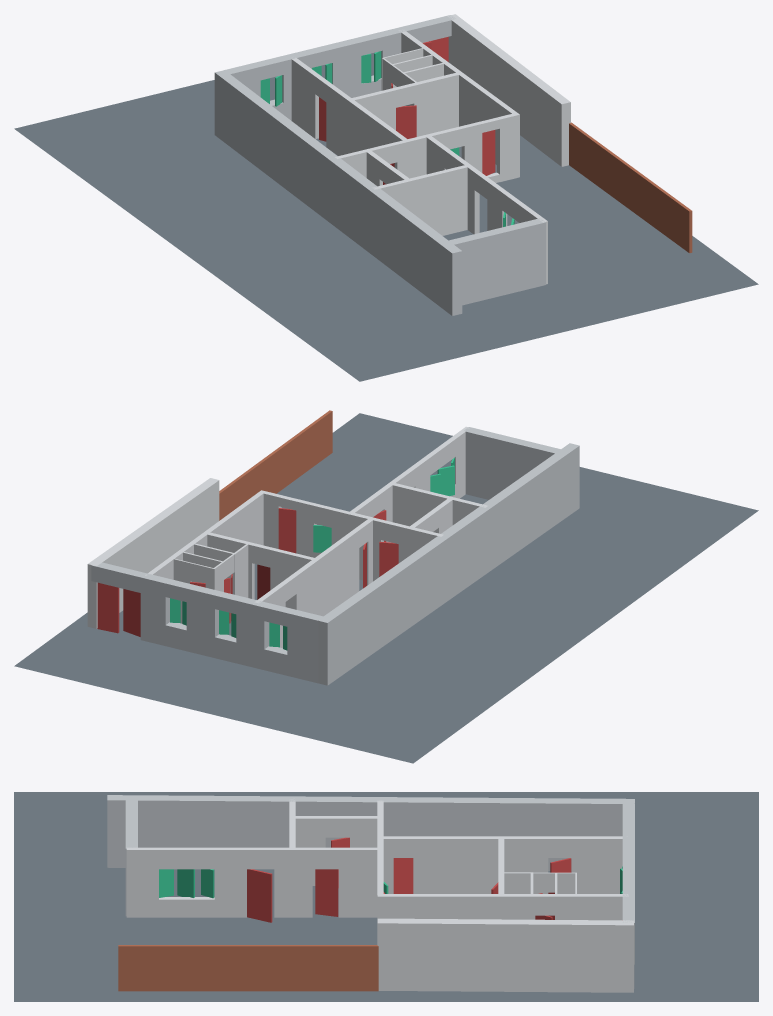
The model's file is foldszint_v2.glb.
The picture shows the model from 3 angles, top to bottom: view 1: azimuth 30°, elevation 25°; view 2: azimuth 150°, elevation 25°; view 3: azimuth 270°, elevation 25°; orthographic projection. The views are drawn at different scales.
Parts seen in each view (by area): view 1: Ground floor slab, Wall_path262_0, Wall_path378_3, Wall_path262_1, Brick fence_path234_0, Wall_path270_0, Wall_path226_0, Wall_path238_0, Wall_path232_0, Wall_path224_0, Wall_path218_0_385, Wall_path260_0 (+10 smaller); view 2: Ground floor slab, Wall_path262_0, Wall_path378_3, Brick fence_path234_0, Wall_path262_1, Wall_path226_0, Wall_path218_0_92.423203, Wall_path218_0_245, Wall_path218_0_385, Wall_path270_0, Wall_path218_0_525, Wall_path232_0 (+14 smaller); view 3: Ground floor slab, Wall_path262_0, Wall_path378_3, Brick fence_path234_0, Wall_path226_0, Wall_path232_0, Wall_path264_0, Wall_path224_0, Wall_path266_0, Wall_path268_0.001, Wall_path268_0, Wall_path230_0 (+21 smaller).
Part boxes in pixels (x1,y1,x2,y2): Ground floor slab: (14, 52, 758, 381); Wall_path262_0: (214, 70, 462, 315); Wall_path378_3: (447, 14, 570, 166); Wall_path262_1: (445, 218, 545, 305); Brick fence_path234_0: (569, 122, 692, 253); Wall_path270_0: (372, 164, 469, 235); Wall_path226_0: (326, 83, 393, 155); Wall_path238_0: (411, 72, 459, 136); Wall_path232_0: (442, 61, 519, 177); Wall_path224_0: (291, 57, 319, 138); Wall_path218_0_385: (328, 38, 361, 97); Wall_path260_0: (497, 114, 517, 181); Ground floor slab: (14, 413, 758, 763); Wall_path262_0: (318, 443, 579, 685); Wall_path378_3: (87, 478, 219, 628); Brick fence_path234_0: (219, 410, 332, 520); Wall_path262_1: (464, 427, 563, 499); Wall_path226_0: (291, 529, 359, 616); Wall_path218_0_92.423203: (287, 609, 323, 683); Wall_path218_0_245: (236, 596, 269, 669); Wall_path218_0_385: (186, 584, 220, 657); Wall_path270_0: (391, 482, 487, 532); Wall_path218_0_525: (140, 573, 170, 645); Wall_path232_0: (189, 490, 265, 546); Ground floor slab: (14, 792, 758, 1001); Wall_path262_0: (107, 795, 634, 870); Wall_path378_3: (377, 918, 634, 992); Brick fence_path234_0: (118, 945, 378, 991); Wall_path226_0: (413, 836, 548, 893); Wall_path232_0: (377, 894, 535, 919); Wall_path264_0: (338, 847, 380, 917); Wall_path224_0: (571, 836, 627, 893); Wall_path266_0: (274, 847, 312, 917); Wall_path268_0.001: (126, 847, 158, 917); Wall_path268_0: (214, 847, 246, 917); Wall_path230_0: (556, 894, 628, 920).
Size of the model in its own units: 20 by 3.16 by 30.
